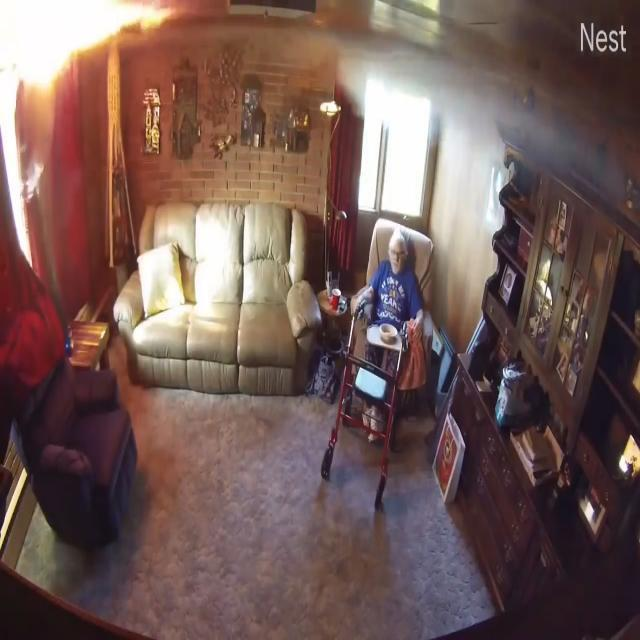Fire: (0, 0, 192, 261)
